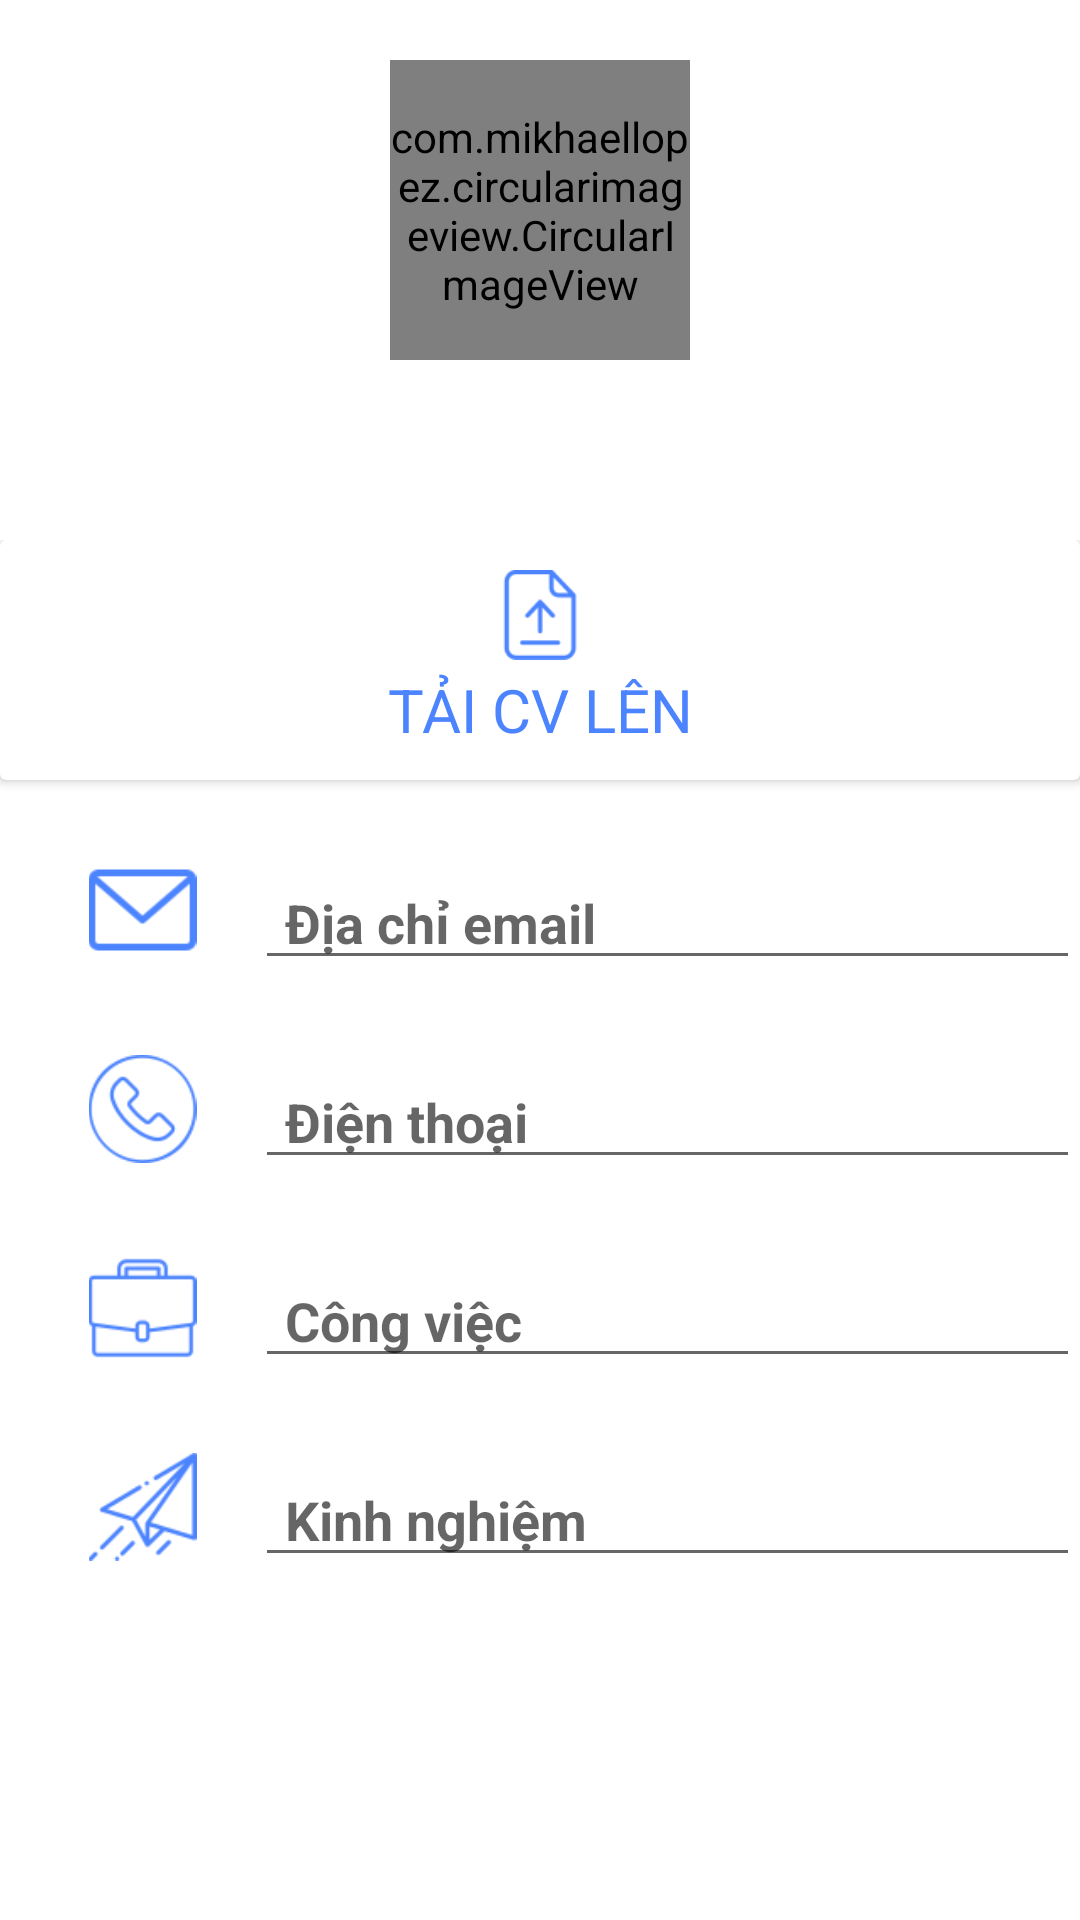

Named icons in this screenshot (1080 x 1920) and their bounding boxes, {"left": x1, "top": y1, "right": x2, "bottom": y2}:
phone: {"left": 89, "top": 1055, "right": 197, "bottom": 1163}
plane: {"left": 89, "top": 1453, "right": 197, "bottom": 1561}
upload: {"left": 503, "top": 570, "right": 577, "bottom": 660}
work: {"left": 89, "top": 1259, "right": 197, "bottom": 1357}
